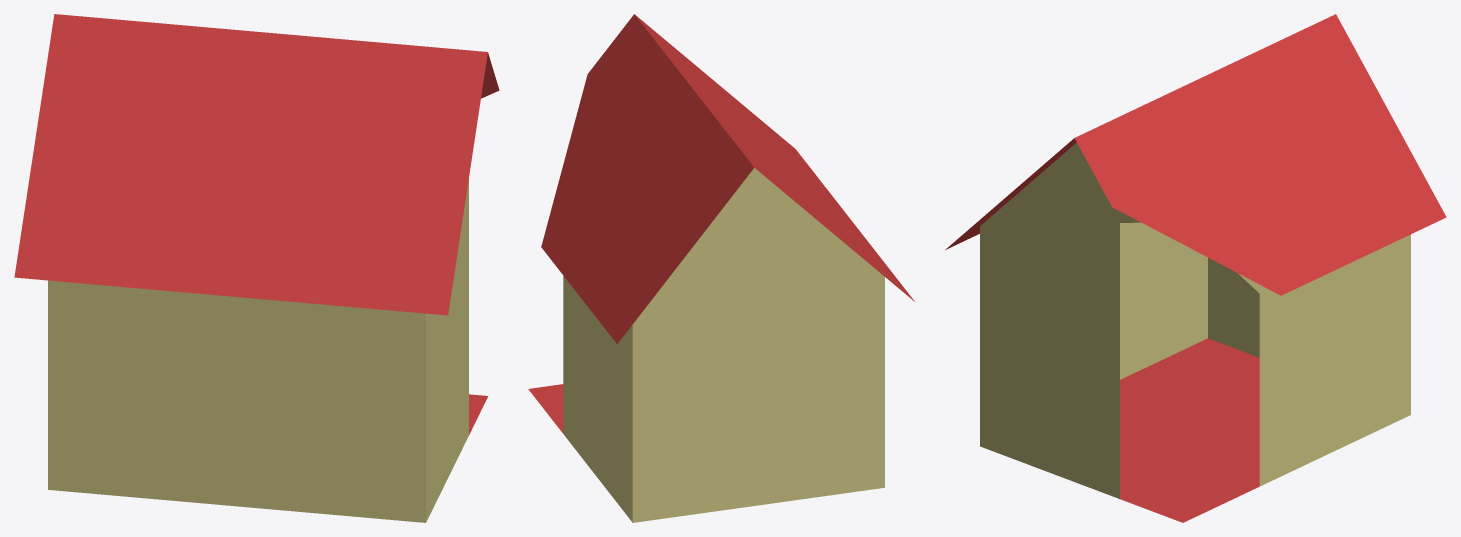
3 views of the same model, side by side, from view 1: azimuth 30°, elevation 25°; view 2: azimuth 150°, elevation 25°; view 3: azimuth 270°, elevation 25° (orthographic). The views are drawn at different scales.
Bounding box in the file's own units: 14.06 × 14.95 × 11.77.
